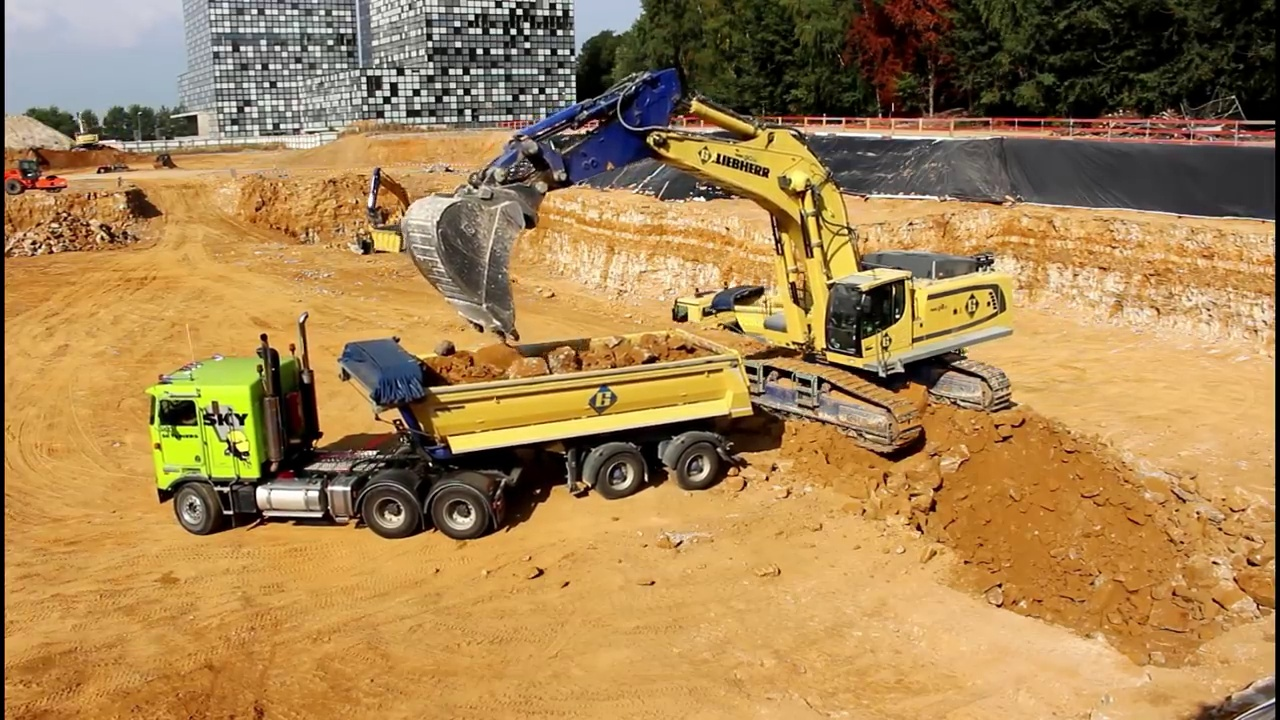compactor: (2, 158, 69, 196)
excavator: (400, 64, 1017, 459), (353, 164, 430, 230), (64, 106, 107, 158)
truck: (143, 310, 757, 541), (654, 275, 965, 390), (354, 219, 460, 274)
